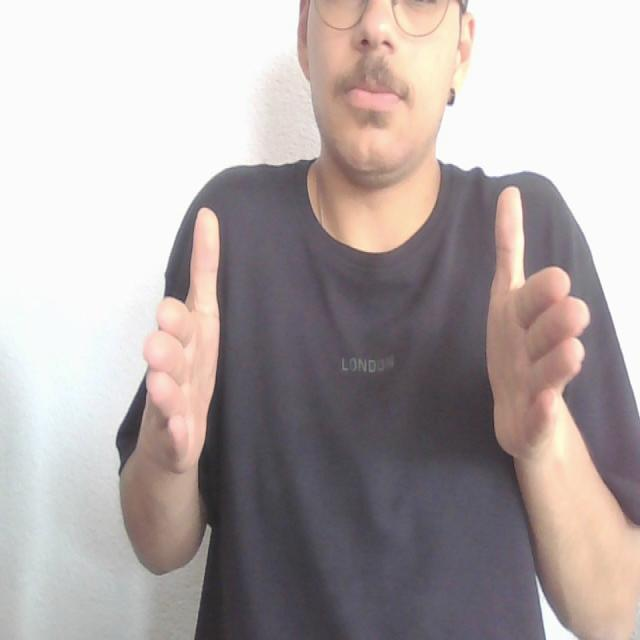Nasil: (140, 168, 596, 505)
